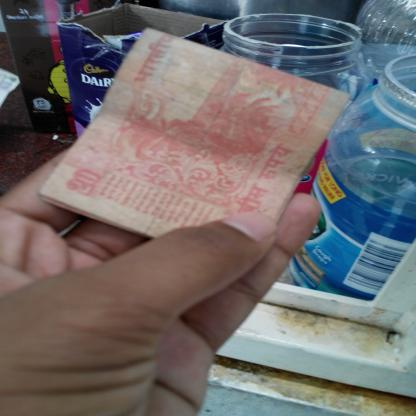Old20Back: (39, 27, 350, 239)
